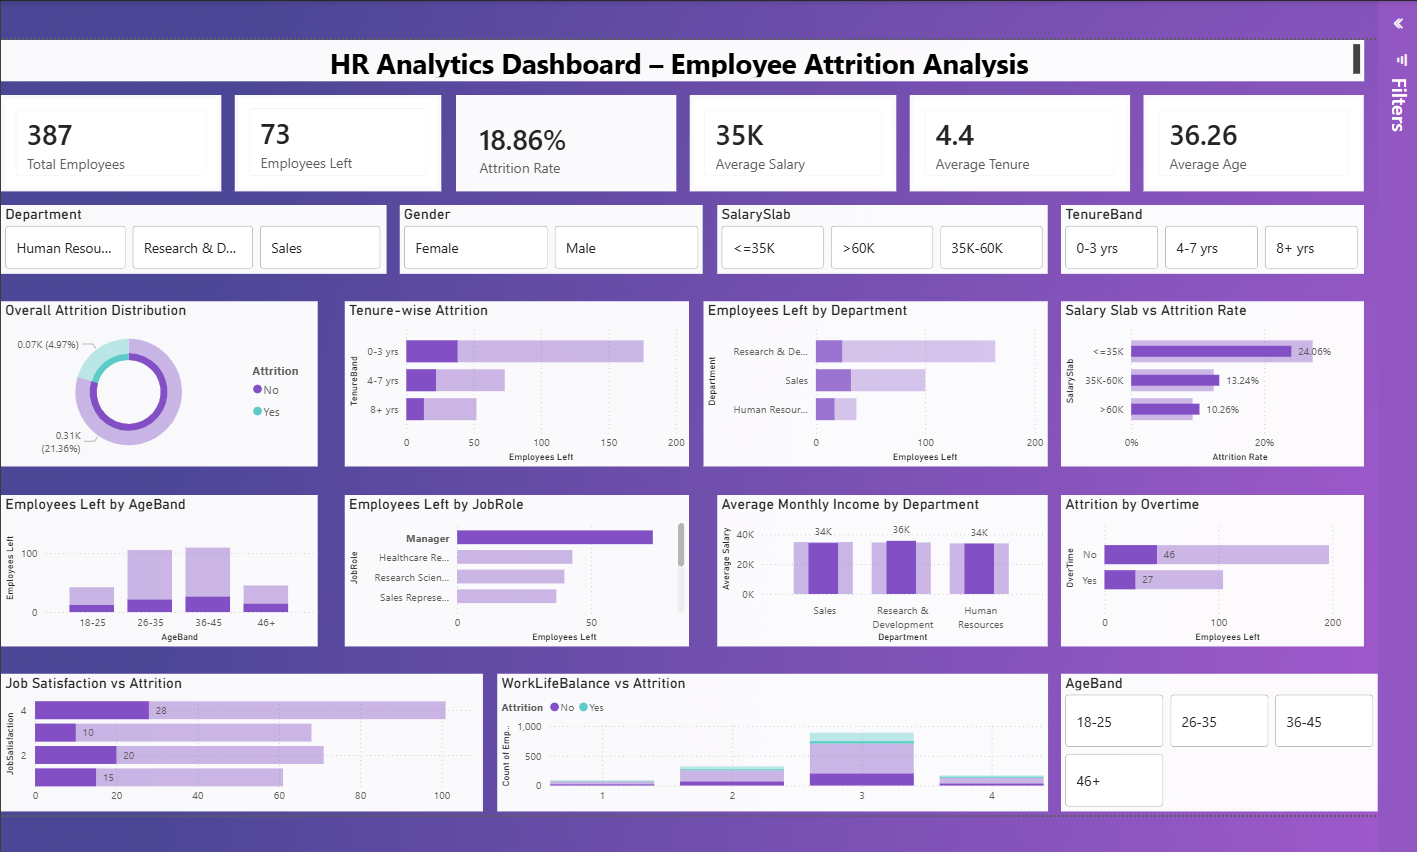

The dashboard page shown, as its layout file describes it:
{"tool":"powerbi","page":{"name":"Page 1","canvas":[1600,900],"ordinal":0},"visuals":[{"type":"textbox","box":[0,0,1584,48],"z":0},{"type":"cardVisual","fields":{"Data":["IBM_HR_Attrition_Dataset.Average Tenure"]},"box":[1056,64,256,112],"z":1000},{"type":"cardVisual","fields":{"Data":["IBM_HR_Attrition_Dataset.Attrition Rate"]},"box":[528,64,256,112],"z":2000},{"type":"cardVisual","fields":{"Data":["IBM_HR_Attrition_Dataset.Average Age"]},"box":[1328,64,256,112],"z":3000},{"type":"cardVisual","fields":{"Data":["IBM_HR_Attrition_Dataset.Average Salary"]},"box":[800,64,240,112],"z":4000},{"type":"cardVisual","fields":{"Data":["IBM_HR_Attrition_Dataset.Employees Left"]},"box":[272,64,240,112],"z":5000},{"type":"cardVisual","fields":{"Data":["IBM_HR_Attrition_Dataset.Total Employees"]},"box":[0,64,256,112],"z":6000},{"type":"clusteredBarChart","fields":{"Category":["IBM_HR_Attrition_Dataset.Department"],"Y":["IBM_HR_Attrition_Dataset.Employees Left"]},"box":[816,304,400,192],"z":7000},{"type":"donutChart","title":"Overall Attrition Distribution","fields":{"Y":["CountNonNull(IBM_HR_Attrition_Dataset.EmployeeNumber)"],"Category":["IBM_HR_Attrition_Dataset.Attrition"]},"box":[0,304,368,192],"z":8000},{"type":"columnChart","fields":{"Category":["IBM_HR_Attrition_Dataset.AgeBand"],"Y":["IBM_HR_Attrition_Dataset.Employees Left"]},"box":[0,528,368,176],"z":9000},{"type":"clusteredBarChart","title":"Tenure-wise Attrition","fields":{"Y":["IBM_HR_Attrition_Dataset.Employees Left"],"Category":["IBM_HR_Attrition_Dataset.TenureBand"]},"box":[400,304,400,192],"z":10000},{"type":"clusteredBarChart","fields":{"Y":["IBM_HR_Attrition_Dataset.Employees Left"],"Category":["IBM_HR_Attrition_Dataset.JobRole"]},"box":[400,528,400,176],"z":11000},{"type":"advancedSlicerVisual","fields":{"Values":["IBM_HR_Attrition_Dataset.Department"]},"box":[0,192,448,80],"z":12000},{"type":"advancedSlicerVisual","fields":{"Values":["IBM_HR_Attrition_Dataset.Gender"]},"box":[464,192,352,80],"z":13000},{"type":"advancedSlicerVisual","fields":{"Values":["IBM_HR_Attrition_Dataset.SalarySlab"]},"box":[832,192,384,80],"z":15000},{"type":"advancedSlicerVisual","fields":{"Values":["IBM_HR_Attrition_Dataset.TenureBand"]},"box":[1232,192,352,80],"z":16000},{"type":"clusteredBarChart","title":"Salary Slab vs Attrition Rate","fields":{"Category":["IBM_HR_Attrition_Dataset.SalarySlab"],"Y":["IBM_HR_Attrition_Dataset.Attrition Rate"]},"box":[1232,304,352,192],"z":17000},{"type":"columnChart","title":"Average Monthly Income by Department","fields":{"Category":["IBM_HR_Attrition_Dataset.Department"],"Y":["IBM_HR_Attrition_Dataset.Average Salary"]},"box":[832,528,384,176],"z":18000},{"type":"clusteredBarChart","title":"Attrition by Overtime","fields":{"Category":["IBM_HR_Attrition_Dataset.OverTime"],"Y":["IBM_HR_Attrition_Dataset.Employees Left"]},"box":[1232,528,352,176],"z":19000},{"type":"clusteredBarChart","title":"Job Satisfaction vs Attrition","fields":{"Category":["IBM_HR_Attrition_Dataset.JobSatisfaction"],"Y":["IBM_HR_Attrition_Dataset.Employees Left"]},"box":[0,736,560,160],"z":20000},{"type":"advancedSlicerVisual","fields":{"Values":["IBM_HR_Attrition_Dataset.AgeBand"]},"box":[1232,736,368,160],"z":20002},{"type":"columnChart","title":"WorkLifeBalance vs Attrition","fields":{"Category":["IBM_HR_Attrition_Dataset.WorkLifeBalance"],"Y":["CountNonNull(IBM_HR_Attrition_Dataset.EmployeeNumber)"],"Series":["IBM_HR_Attrition_Dataset.Attrition"]},"box":[576,736,640,160],"z":20003}]}

Visuals, with their boxes in screenshot pixels (x1, y1, x2, y2):
textbox: pyautogui.locateOnScreen(0, 33, 1365, 75)
cardVisual - IBM_HR_Attrition_Dataset.Average Tenure: pyautogui.locateOnScreen(904, 89, 1127, 187)
cardVisual - IBM_HR_Attrition_Dataset.Attrition Rate: pyautogui.locateOnScreen(443, 89, 666, 187)
cardVisual - IBM_HR_Attrition_Dataset.Average Age: pyautogui.locateOnScreen(1141, 89, 1365, 187)
cardVisual - IBM_HR_Attrition_Dataset.Average Salary: pyautogui.locateOnScreen(680, 89, 890, 187)
cardVisual - IBM_HR_Attrition_Dataset.Employees Left: pyautogui.locateOnScreen(219, 89, 429, 187)
cardVisual - IBM_HR_Attrition_Dataset.Total Employees: pyautogui.locateOnScreen(0, 89, 205, 187)
clusteredBarChart - IBM_HR_Attrition_Dataset.Department x IBM_HR_Attrition_Dataset.Employees Left: pyautogui.locateOnScreen(694, 299, 1044, 466)
"Overall Attrition Distribution" donutChart: pyautogui.locateOnScreen(0, 299, 303, 466)
columnChart - IBM_HR_Attrition_Dataset.AgeBand x IBM_HR_Attrition_Dataset.Employees Left: pyautogui.locateOnScreen(0, 494, 303, 648)
"Tenure-wise Attrition" clusteredBarChart: pyautogui.locateOnScreen(331, 299, 680, 466)
clusteredBarChart - IBM_HR_Attrition_Dataset.Employees Left x IBM_HR_Attrition_Dataset.JobRole: pyautogui.locateOnScreen(331, 494, 680, 648)
advancedSlicerVisual - IBM_HR_Attrition_Dataset.Department: pyautogui.locateOnScreen(0, 201, 373, 271)
advancedSlicerVisual - IBM_HR_Attrition_Dataset.Gender: pyautogui.locateOnScreen(387, 201, 694, 271)
advancedSlicerVisual - IBM_HR_Attrition_Dataset.SalarySlab: pyautogui.locateOnScreen(708, 201, 1044, 271)
advancedSlicerVisual - IBM_HR_Attrition_Dataset.TenureBand: pyautogui.locateOnScreen(1058, 201, 1365, 271)
"Salary Slab vs Attrition Rate" clusteredBarChart: pyautogui.locateOnScreen(1058, 299, 1365, 466)
"Average Monthly Income by Department" columnChart: pyautogui.locateOnScreen(708, 494, 1044, 648)
"Attrition by Overtime" clusteredBarChart: pyautogui.locateOnScreen(1058, 494, 1365, 648)
"Job Satisfaction vs Attrition" clusteredBarChart: pyautogui.locateOnScreen(0, 676, 471, 816)
advancedSlicerVisual - IBM_HR_Attrition_Dataset.AgeBand: pyautogui.locateOnScreen(1058, 676, 1379, 816)
"WorkLifeBalance vs Attrition" columnChart: pyautogui.locateOnScreen(485, 676, 1044, 816)
